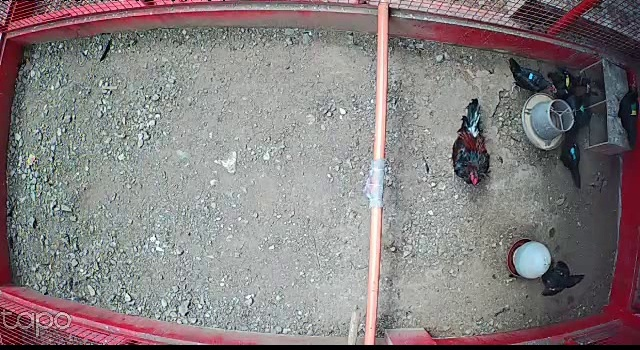Chicken: (556, 125, 584, 194), (539, 259, 586, 300), (613, 80, 640, 148), (504, 57, 551, 96), (547, 66, 591, 102)
Drinker: (505, 239, 553, 279)
Feeder: (522, 90, 575, 151)
Rooster: (446, 94, 499, 193)
Saddle_Color_Blue: (528, 72, 534, 80)
Saddle_Color_Yellow: (564, 76, 570, 88)
Saddle_Color_YellowGreen: (630, 103, 637, 116)
